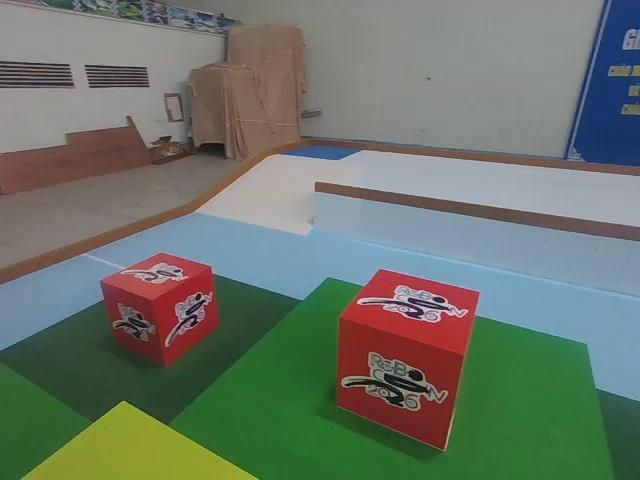R1: (338, 268, 480, 448), (98, 250, 221, 370)
